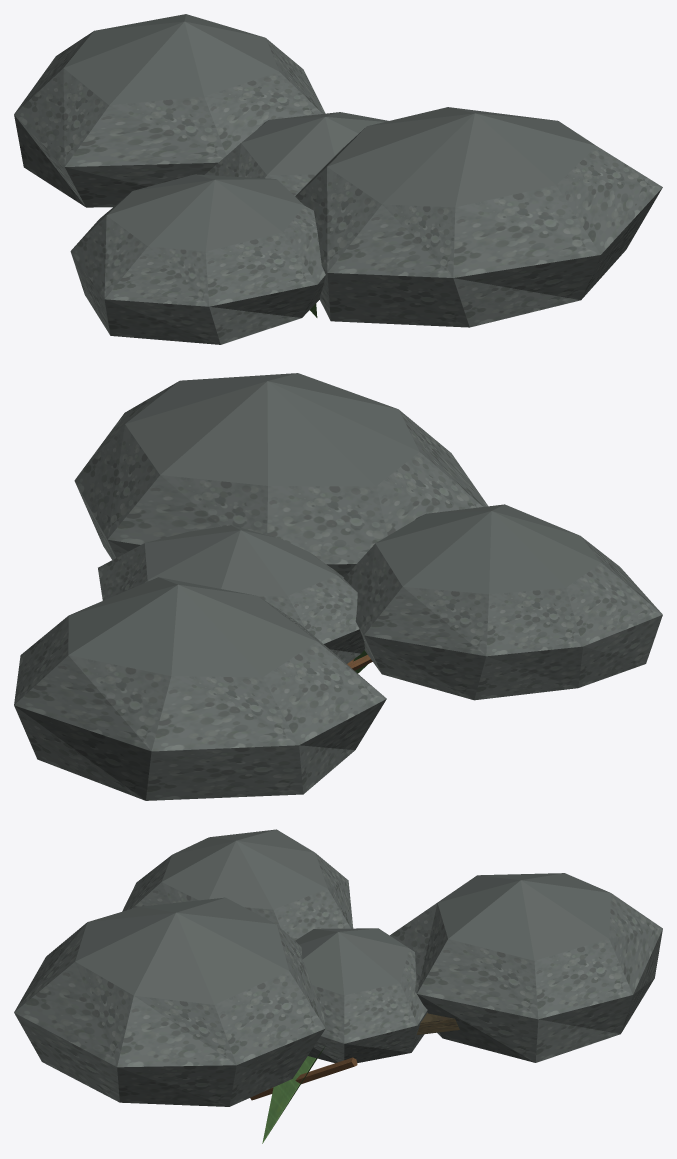
File: pr-010_stone_pile__small.obj
3 renders of one model, top to bottom at view 1: azimuth 30°, elevation 25°; view 2: azimuth 150°, elevation 25°; view 3: azimuth 270°, elevation 25°, orthographic. The views are drawn at different scales.
Parts seen in each view (by area): view 1: pr-010_stone_pile__small; view 2: pr-010_stone_pile__small; view 3: pr-010_stone_pile__small.
Boxes of the visible parts, x1,y1,x2,y2 form: pr-010_stone_pile__small: (14,14,662,344); pr-010_stone_pile__small: (14,373,662,800); pr-010_stone_pile__small: (14,829,662,1143).
Bounding box in the file's own units: 0.7767 × 0.3198 × 0.9069.
4 materials, 4 textured.
